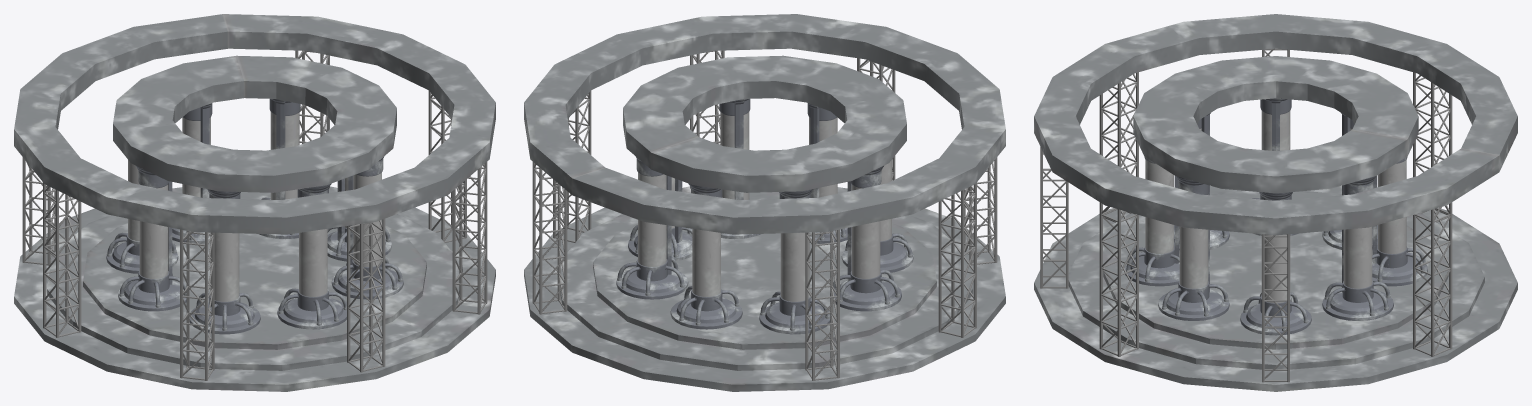
File: field_winter_prop_room1.fbx
The picture shows the model from 3 angles, left to right: view 1: azimuth 30°, elevation 25°; view 2: azimuth 150°, elevation 25°; view 3: azimuth 270°, elevation 25°; orthographic projection.
Visible parts, largest first — view 1: field_winter_prop_room1; view 2: field_winter_prop_room1; view 3: field_winter_prop_room1.
Part boxes in pixels (x1,y1,x2,y2): field_winter_prop_room1: (14, 14, 495, 391); field_winter_prop_room1: (524, 14, 1005, 391); field_winter_prop_room1: (1034, 14, 1517, 391).
Bounding box in the file's own units: 750 × 297 × 750.
Materials: 1 (1 with a texture image).
